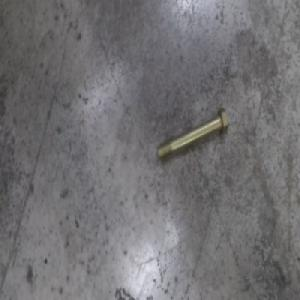Bolt: (156, 105, 229, 162)
